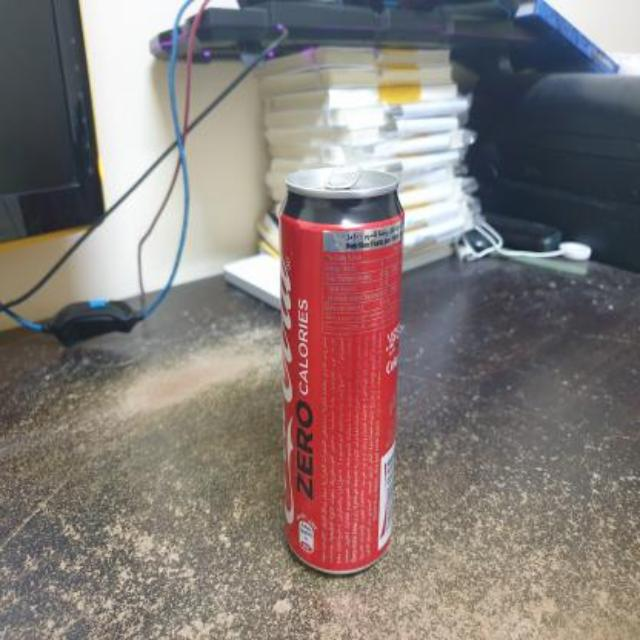metal: (278, 166, 400, 571)
